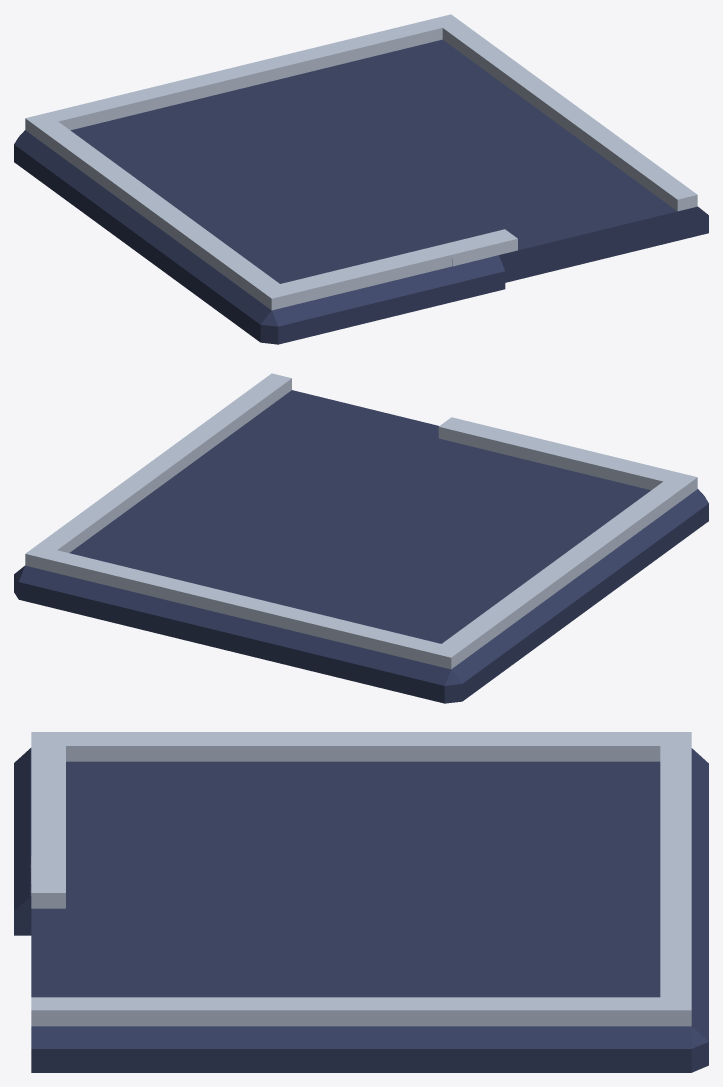
File: base_start_2x2.fbx
3 views of the same model, one above another, from view 1: azimuth 30°, elevation 25°; view 2: azimuth 150°, elevation 25°; view 3: azimuth 270°, elevation 25° (orthographic). The views are drawn at different scales.
Parts seen in each view (by area): view 1: base_start_2x2; view 2: base_start_2x2; view 3: base_start_2x2.
Part boxes in pixels (bbox=[...]): base_start_2x2: bbox=[14, 14, 708, 344]; base_start_2x2: bbox=[14, 373, 708, 703]; base_start_2x2: bbox=[14, 732, 708, 1072].
Size of the model in its own units: 399 by 35 by 400.
